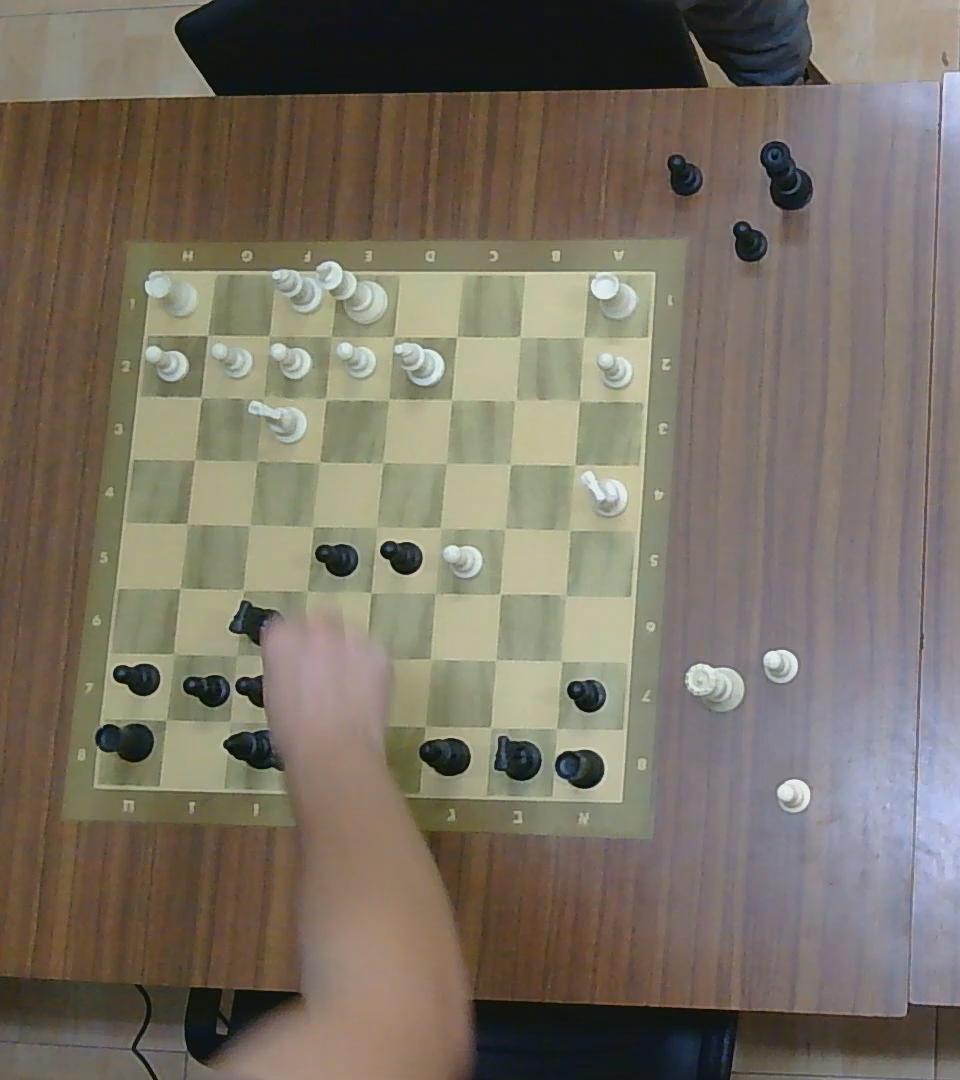xcorner: (412, 644, 448, 672), (248, 383, 278, 414), (172, 508, 204, 536), (215, 708, 247, 736), (158, 639, 188, 668), (226, 574, 257, 602), (557, 454, 593, 478), (280, 709, 314, 734), (235, 510, 263, 540), (163, 573, 193, 601), (341, 714, 372, 740), (300, 510, 325, 542), (485, 577, 512, 606), (312, 382, 338, 412), (379, 323, 410, 348), (545, 648, 577, 672), (551, 582, 580, 608), (473, 714, 502, 740), (483, 648, 509, 676), (494, 451, 524, 475), (151, 708, 181, 732), (188, 381, 214, 408), (556, 517, 582, 544), (443, 322, 468, 350), (364, 513, 388, 542), (358, 577, 382, 606), (258, 322, 282, 350), (508, 322, 532, 350), (179, 447, 207, 471), (302, 450, 330, 474), (409, 714, 437, 738), (429, 453, 459, 475), (294, 578, 320, 603), (317, 324, 344, 348), (567, 388, 591, 415), (369, 450, 396, 474), (571, 321, 594, 349), (426, 514, 452, 538), (350, 648, 376, 672), (193, 323, 220, 346), (542, 714, 567, 738), (439, 386, 463, 410), (223, 643, 246, 668), (376, 388, 398, 414), (246, 450, 271, 472), (423, 580, 445, 605), (503, 390, 526, 412), (290, 649, 316, 668), (493, 516, 514, 539)
